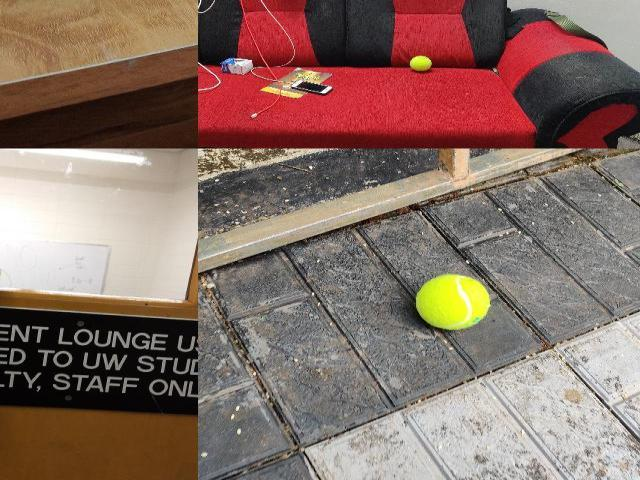tennis-ball: (414, 274, 490, 330), (409, 55, 431, 71)
